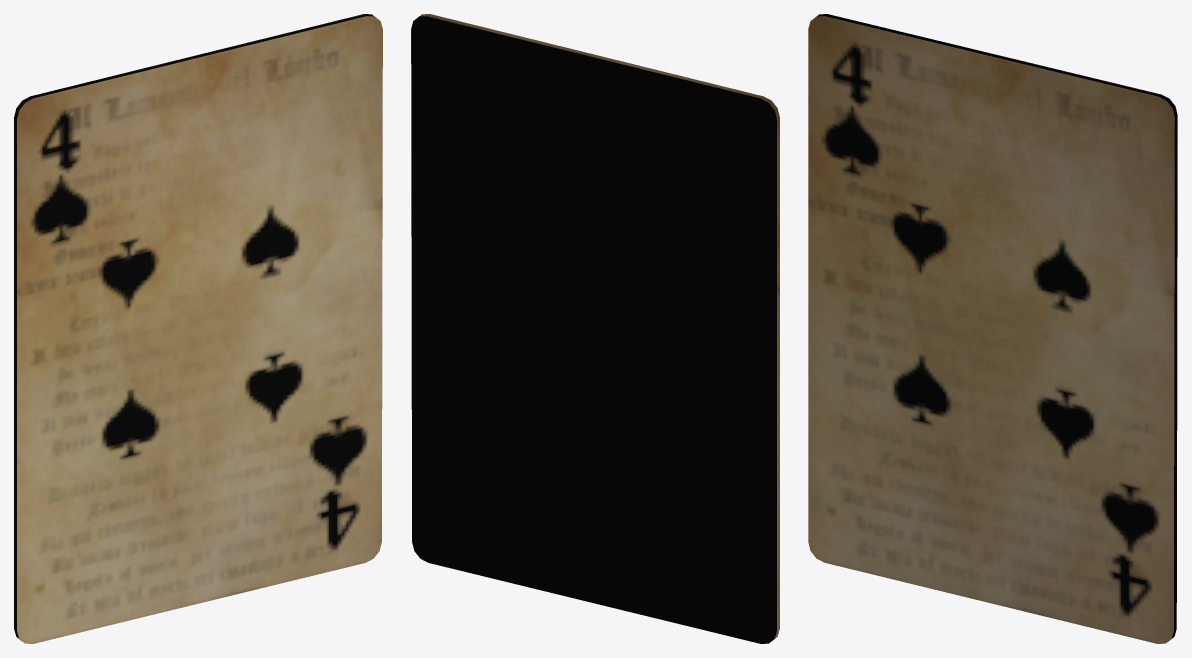
File: Card.017.fbx
3 views of the same model, side by side, from view 1: azimuth 30°, elevation 25°; view 2: azimuth 150°, elevation 25°; view 3: azimuth 330°, elevation 25° (orthographic).
Visible parts, largest first — view 1: Card.017; view 2: Card.017; view 3: Card.017.
Part boxes in pixels (x1,y1,x2,y2): Card.017: (14,14,382,643); Card.017: (411,14,779,643); Card.017: (808,14,1177,643).
Bounding box in the file's own units: 11.23 × 16.03 × 0.1561.
